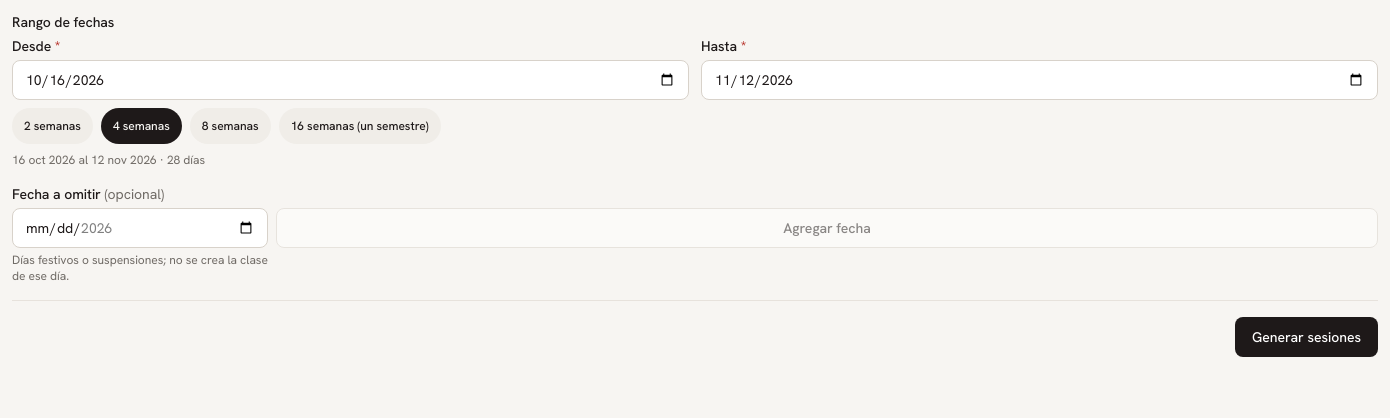
Test: GenerarSesiones › una fecha escrita sin pulsar «Agregar» bloquea el envío con un mensaje
In the date field labelled "Desde *": (350, 80) [12,60,689,100], type "2026-09-01"
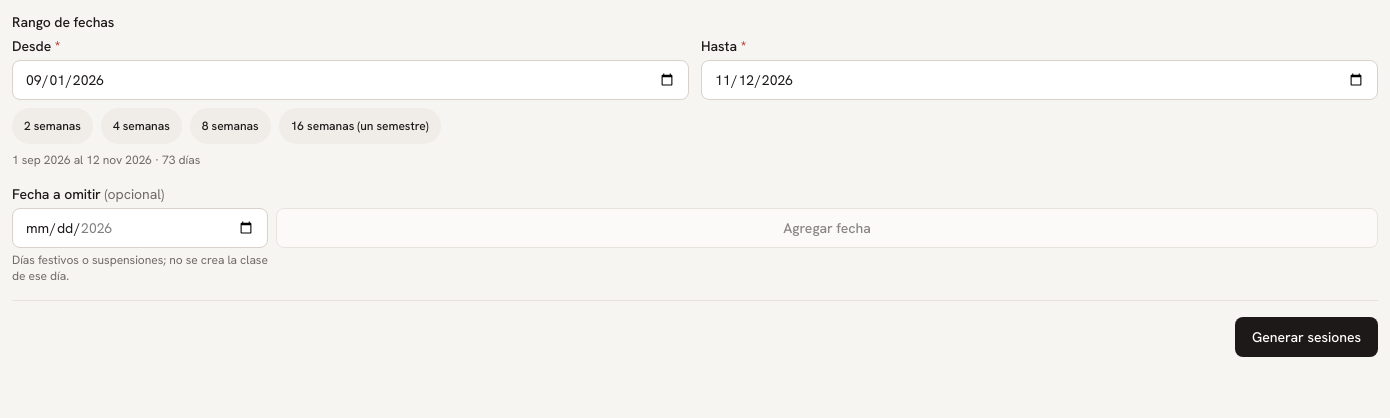
In the date field labelled "Hasta *": (1040, 80) [701,60,1378,100], type "2026-09-30"
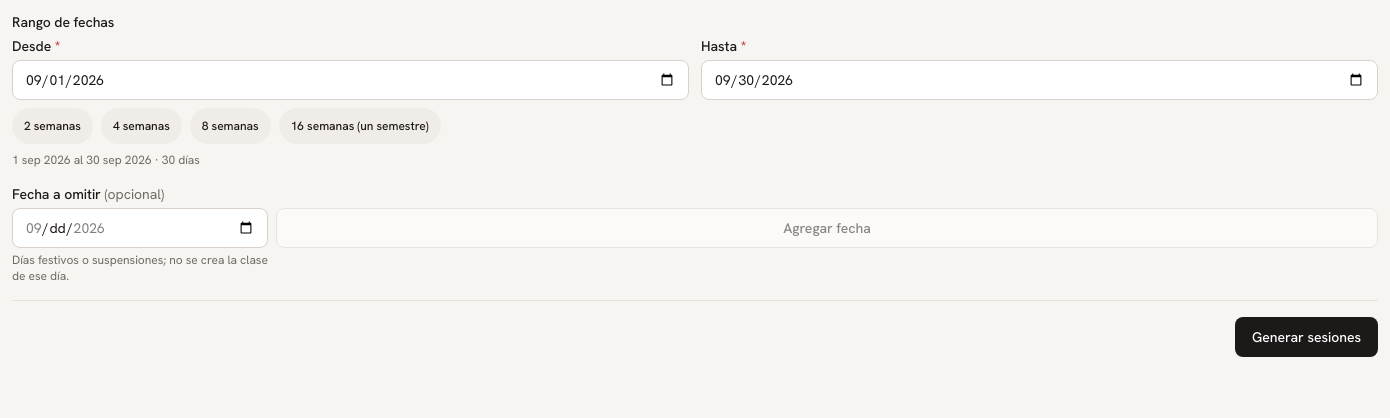
In the date field labelled "Fecha a omitir (opcional)": (140, 228) [12,208,268,248], type "2026-09-16"
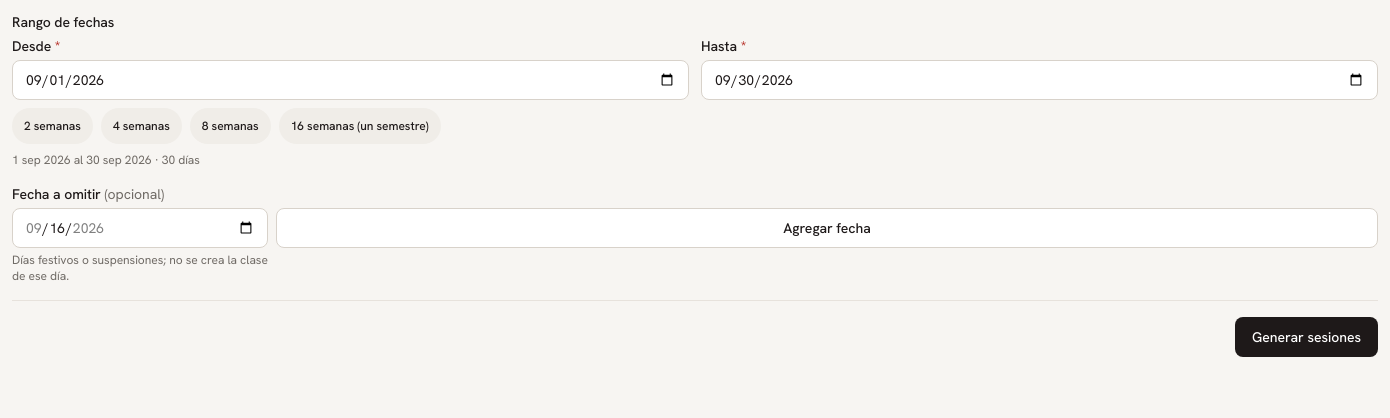
Click the button "Generar sesiones": (1306, 337) [1235,317,1378,357]
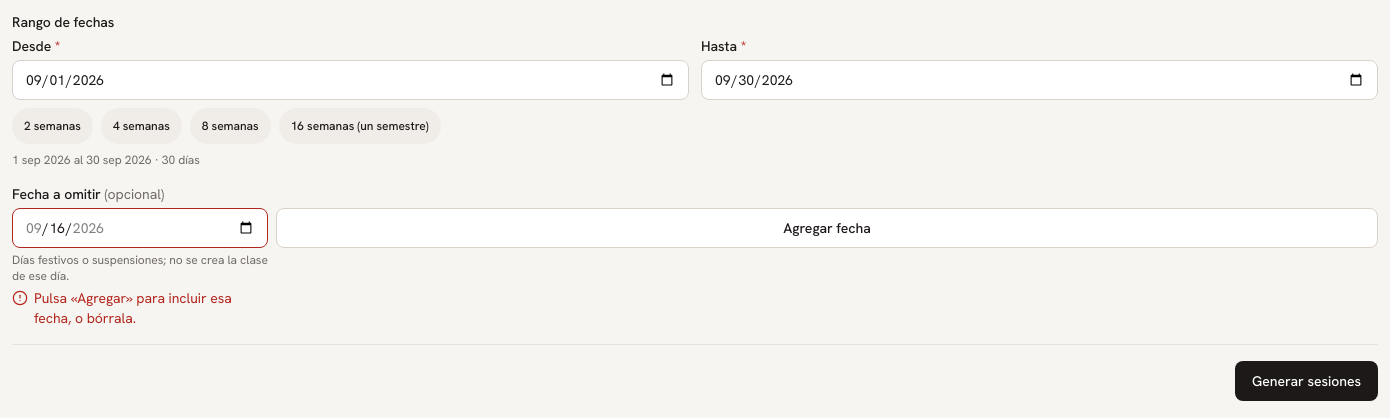
Expected: the text "Pulsa «Agregar» para incluir esa fecha, o bórrala." is shown, [12,288,268,328]
